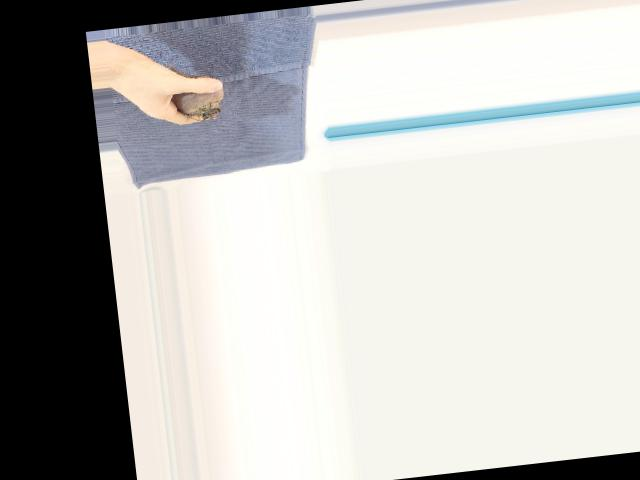beet: (168, 55, 227, 123)
